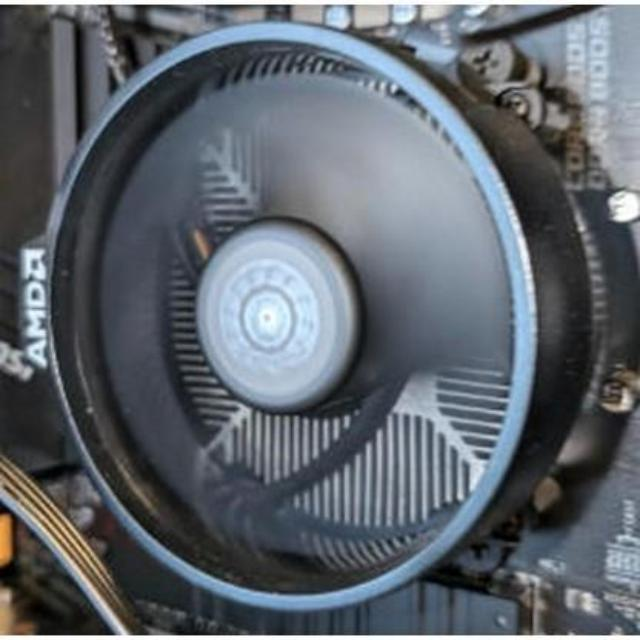CPU_Fan: (21, 26, 576, 596)
